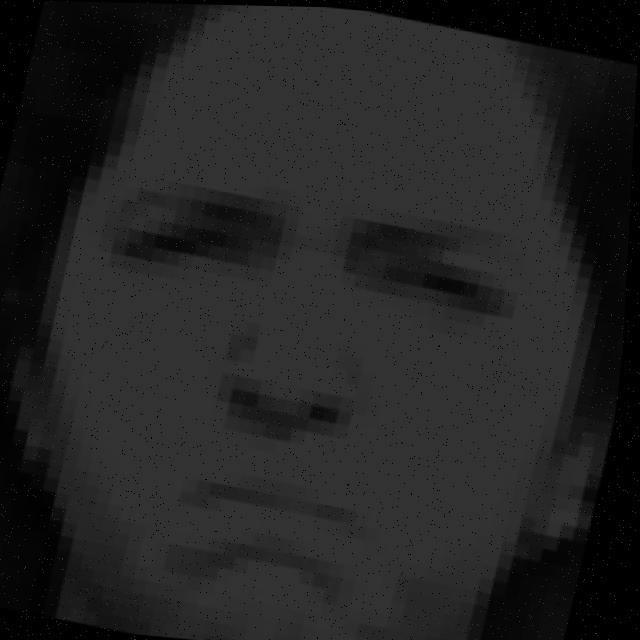Disgust: (93, 99, 593, 582)
